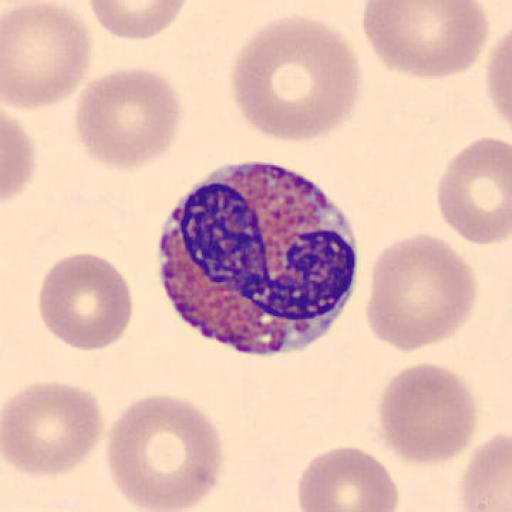RBC: (229, 14, 363, 144), (104, 393, 225, 512), (366, 232, 480, 353), (73, 65, 182, 171), (375, 360, 478, 466), (361, 0, 490, 80), (2, 380, 106, 479), (2, 0, 93, 110), (37, 251, 134, 353), (436, 135, 512, 246), (296, 444, 400, 512), (456, 431, 512, 512), (86, 0, 188, 41), (2, 107, 36, 205), (485, 28, 512, 129)
WBC: (156, 160, 359, 356)
